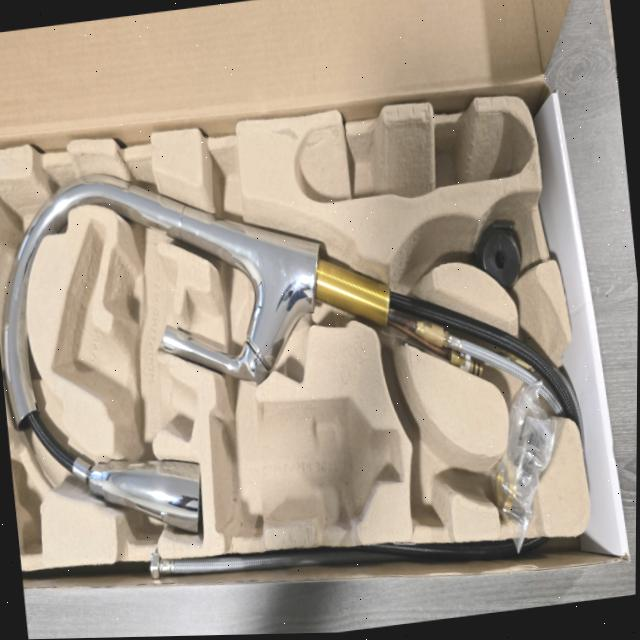1: (1, 175, 584, 532)
2m: (52, 222, 196, 443)
3m: (210, 397, 402, 529)
4m: (293, 114, 532, 202)
5: (479, 218, 524, 292)
6: (489, 373, 555, 555)
7m: (395, 383, 469, 526)
